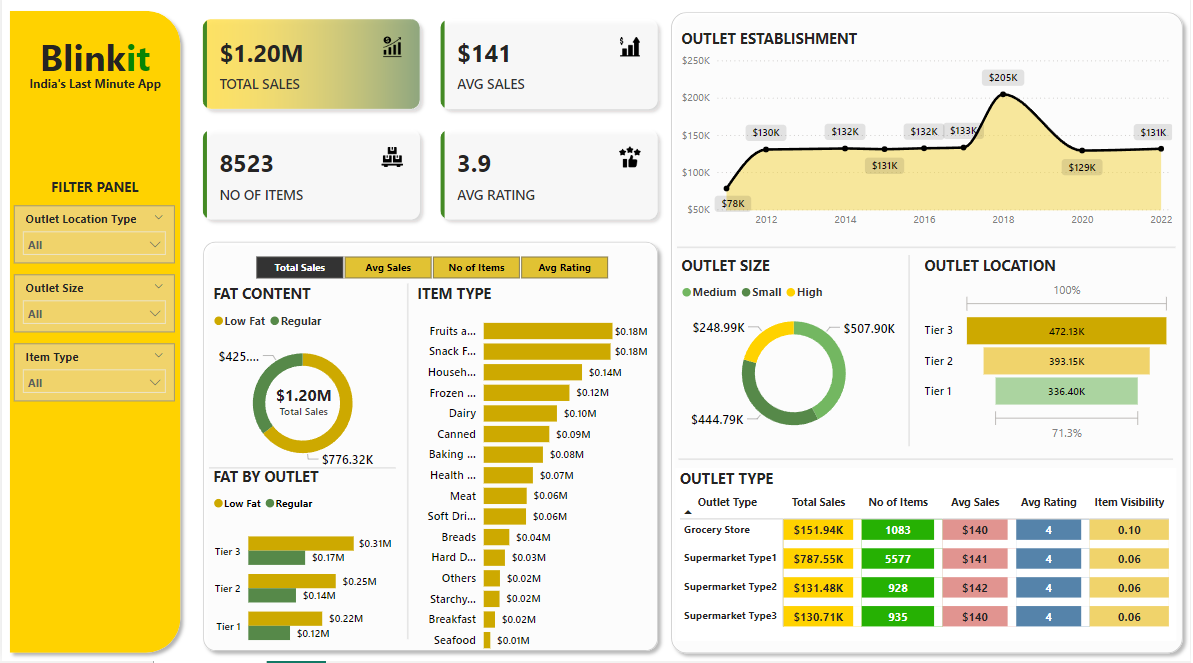

The dashboard page shown, as its layout file describes it:
{"tool":"powerbi","page":{"name":"Page 1","canvas":[1400,800],"ordinal":0},"visuals":[{"type":"shape","box":[0,25.5,219.1,774.5],"z":0},{"type":"textbox","box":[0,53.2,219.1,97.9],"z":1000},{"type":"textbox","box":[0,104.3,219.1,46.8],"z":2000},{"type":"cardVisual","fields":{"Data":["Mercato Grocery Data.Total Sales","Mercato Grocery Data.Avg Sales","Mercato Grocery Data.No of Items","Mercato Grocery Data.Avg Rating"]},"box":[219.1,26.9,570.5,270.8],"z":3000},{"type":"shape","box":[227.4,297.6,553.9,500.2],"z":4000},{"type":"donutChart","title":"FAT CONTENT","fields":{"Y":["Mercato Grocery Data.Total Sales"],"Category":["Mercato Grocery Data.Item Fat Content"]},"box":[244,355.1,220,228.7],"z":5000},{"type":"slicer","fields":{"Values":["Metrics.Metrics"]},"box":[274.5,315.9,464,39.2],"z":6000},{"type":"cardVisual","fields":{"Data":["Mercato Grocery Data.Total Sales"]},"box":[303.6,456.4,103.6,72.7],"z":7000},{"type":"clusteredBarChart","title":"FAT BY OUTLET","fields":{"Y":["Mercato Grocery Data.Total Sales"],"Category":["Mercato Grocery Data.Outlet Location Type"],"Series":["Mercato Grocery Data.Item Fat Content"]},"box":[244,570.8,220,228.7],"z":8000},{"type":"shape","box":[243.6,547.3,220,49.1],"z":9000},{"type":"shape","box":[425.5,355.3,104.3,419.1],"z":10000},{"type":"barChart","title":"ITEM TYPE","fields":{"Y":["Mercato Grocery Data.Total Sales"],"Category":["Mercato Grocery Data.Item Type"]},"box":[483.6,355.1,281,444.4],"z":11000},{"type":"shape","box":[779.9,26.1,620.9,773.4],"z":12000},{"type":"lineChart","title":"OUTLET ESTABLISHMENT","fields":{"Y":["Mercato Grocery Data.Total Sales"],"Category":["Mercato Grocery Data.Outlet Establishment Year"]},"box":[795.2,54.8,588.1,242.9],"z":13000},{"type":"shape","box":[794.5,287.3,587.3,49.1],"z":14000},{"type":"donutChart","title":"OUTLET SIZE","fields":{"Y":["Mercato Grocery Data.Total Sales"],"Category":["Mercato Grocery Data.Outlet Size"]},"box":[794.5,321.8,274.5,225.5],"z":15000},{"type":"shape","box":[1021.8,321.8,94.5,225.5],"z":16000},{"type":"funnel","title":"OUTLET LOCATION","fields":{"Y":["Sum(Mercato Grocery Data.Sales)"],"Category":["Mercato Grocery Data.Outlet Location Type"]},"box":[1080.9,321.3,300,225.5],"z":17000},{"type":"shape","box":[797.9,497.9,583,127.7],"z":18000},{"type":"pivotTable","title":"OUTLET TYPE","fields":{"Rows":["Mercato Grocery Data.Outlet Type"],"Values":["Mercato Grocery Data.Total Sales","Mercato Grocery Data.No of Items","Mercato Grocery Data.Avg Sales","Mercato Grocery Data.Avg Rating","Avg(Mercato Grocery Data.Item Visibility)"]},"box":[794,572,590,204],"z":19000},{"type":"slicer","fields":{"Values":["Mercato Grocery Data.Outlet Location Type"]},"box":[14.9,263.8,189.4,68.1],"z":20000},{"type":"slicer","fields":{"Values":["Mercato Grocery Data.Outlet Size"]},"box":[14.9,344.7,189.4,68.1],"z":21000},{"type":"slicer","fields":{"Values":["Mercato Grocery Data.Item Type"]},"box":[14.9,425.5,189.4,68.1],"z":22000},{"type":"textbox","box":[15,225,190,61.7],"z":23000}]}

Visuals, with their boxes in screenshot pixels (x1, y1, x2, y2), scaled from the page's 1400x800 canvas onto the 1193x663 screenshot:
shape: [x1=0, y1=21, x2=187, y2=662]
textbox: [x1=0, y1=44, x2=187, y2=125]
textbox: [x1=0, y1=86, x2=187, y2=125]
cardVisual - Mercato Grocery Data.Total Sales x Mercato Grocery Data.Avg Sales: [x1=187, y1=22, x2=673, y2=247]
shape: [x1=194, y1=247, x2=666, y2=661]
"FAT CONTENT" donutChart: [x1=208, y1=294, x2=395, y2=484]
slicer - Metrics.Metrics: [x1=234, y1=262, x2=629, y2=294]
cardVisual - Mercato Grocery Data.Total Sales: [x1=259, y1=378, x2=347, y2=438]
"FAT BY OUTLET" clusteredBarChart: [x1=208, y1=473, x2=395, y2=662]
shape: [x1=208, y1=454, x2=395, y2=494]
shape: [x1=363, y1=294, x2=451, y2=642]
"ITEM TYPE" barChart: [x1=412, y1=294, x2=652, y2=662]
shape: [x1=665, y1=22, x2=1192, y2=662]
"OUTLET ESTABLISHMENT" lineChart: [x1=678, y1=45, x2=1179, y2=247]
shape: [x1=677, y1=238, x2=1177, y2=279]
"OUTLET SIZE" donutChart: [x1=677, y1=267, x2=911, y2=454]
shape: [x1=871, y1=267, x2=951, y2=454]
"OUTLET LOCATION" funnel: [x1=921, y1=266, x2=1177, y2=453]
shape: [x1=680, y1=413, x2=1177, y2=518]
"OUTLET TYPE" pivotTable: [x1=677, y1=474, x2=1179, y2=643]
slicer - Mercato Grocery Data.Outlet Location Type: [x1=13, y1=219, x2=174, y2=275]
slicer - Mercato Grocery Data.Outlet Size: [x1=13, y1=286, x2=174, y2=342]
slicer - Mercato Grocery Data.Item Type: [x1=13, y1=353, x2=174, y2=409]
textbox: [x1=13, y1=186, x2=175, y2=238]
